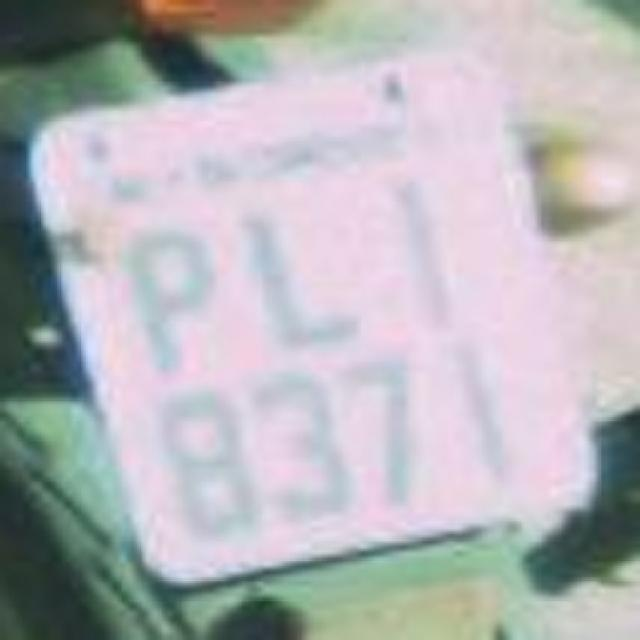3: (220, 348, 380, 524)
7: (328, 336, 448, 516)
8: (136, 368, 276, 548)
J: (220, 188, 380, 352)
P: (105, 200, 240, 385)
